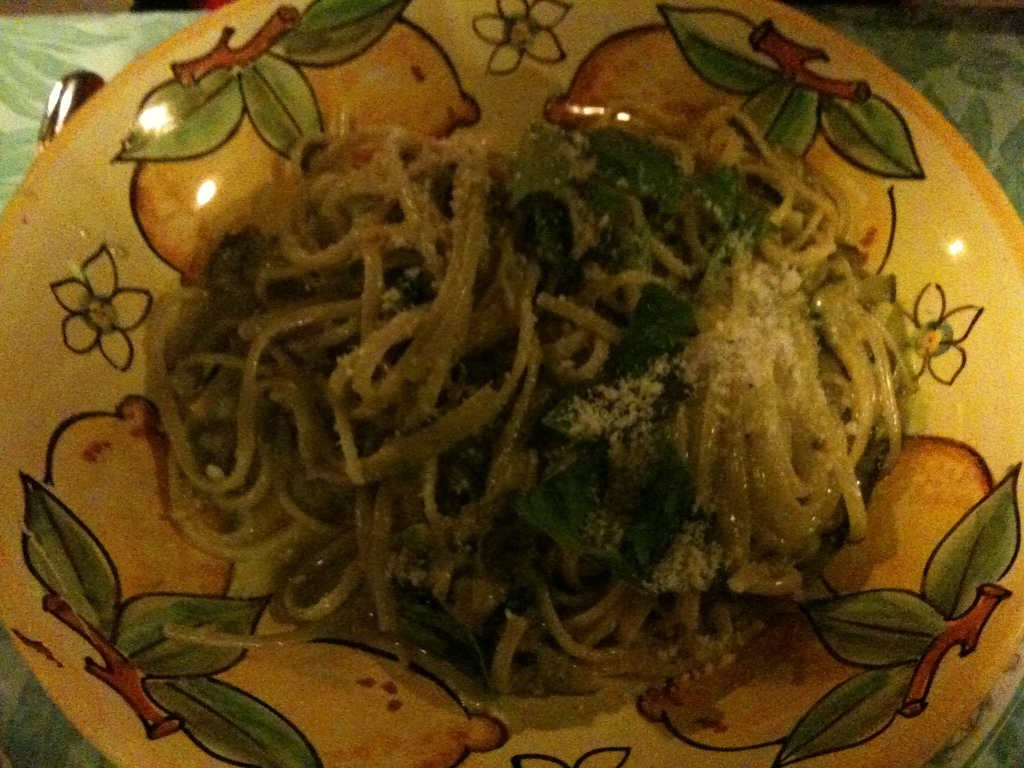pasta: (145, 102, 922, 723)
